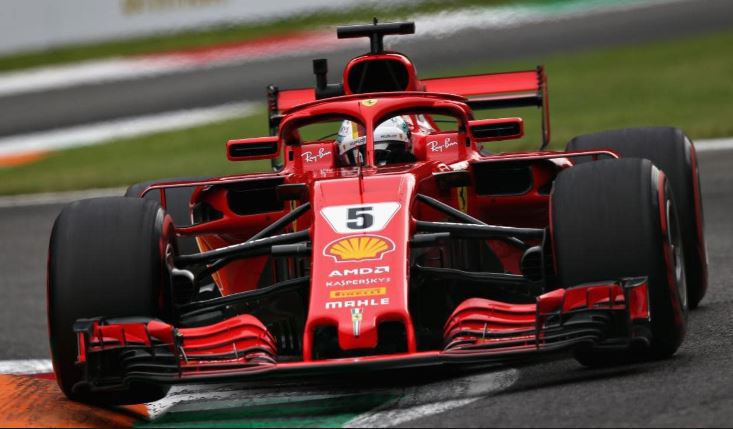F1 Car: (46, 17, 717, 410)
